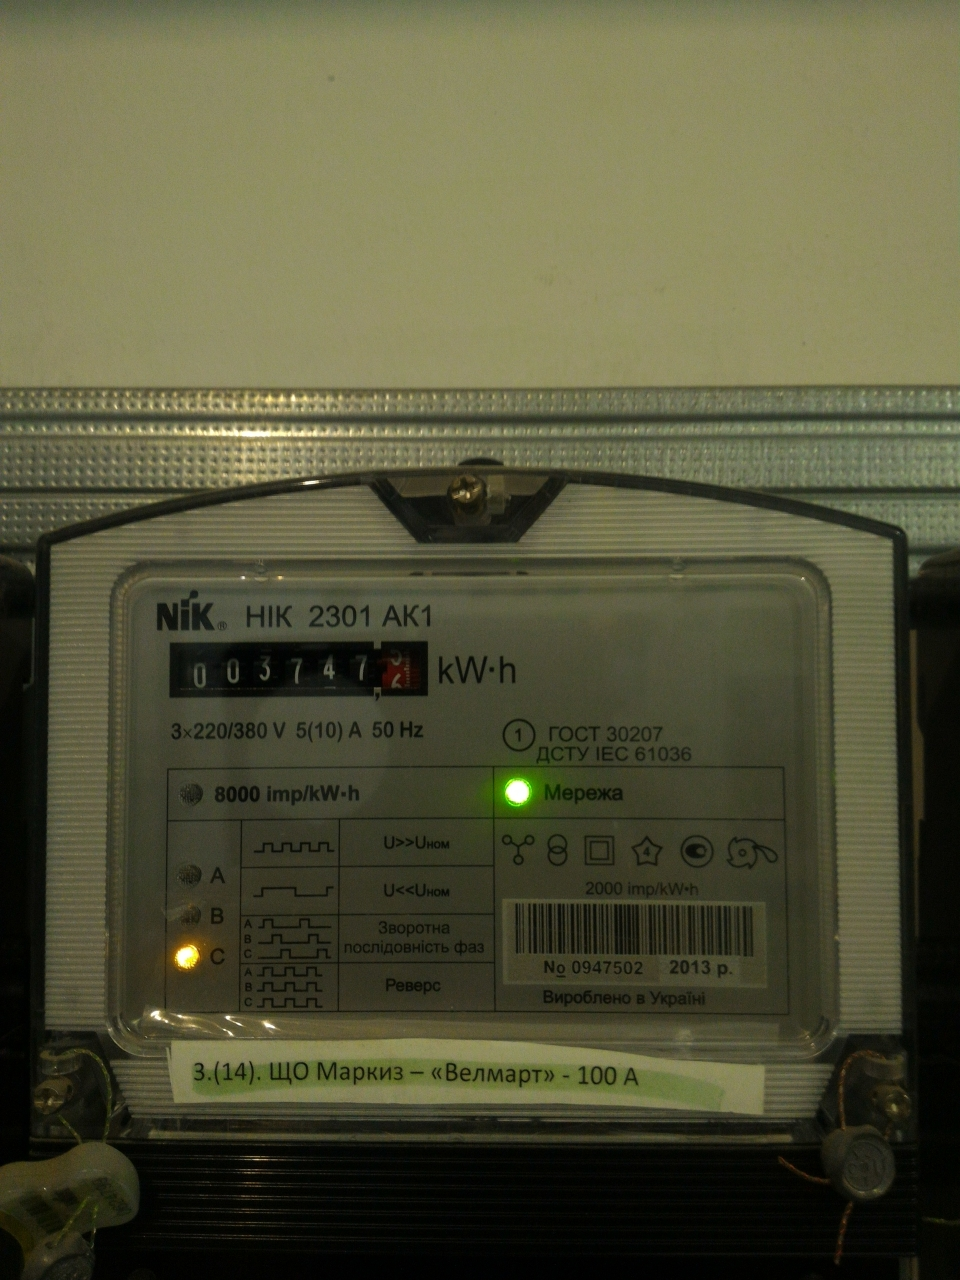0: (190, 661, 209, 689), (224, 656, 242, 685)
3: (256, 653, 272, 682)
4: (320, 652, 337, 682)
6: (388, 672, 403, 691)
7: (353, 652, 369, 683), (288, 656, 305, 685)
screen: (157, 630, 440, 707)
x: (387, 644, 405, 668)
